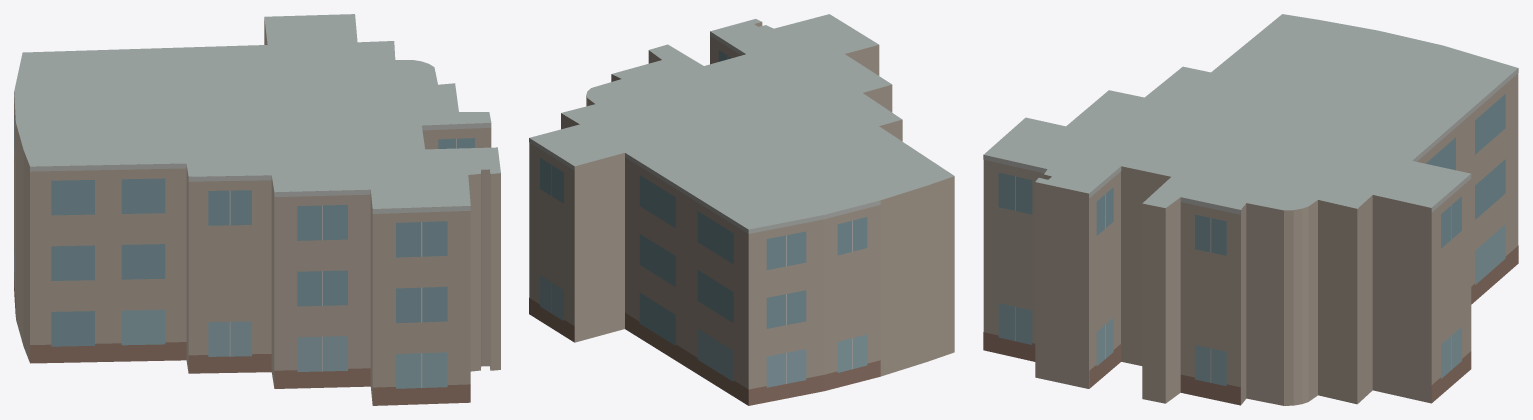
Rendered from survey-upis-32502883.glb.
3 views of the same model, side by side, from view 1: azimuth 30°, elevation 25°; view 2: azimuth 150°, elevation 25°; view 3: azimuth 270°, elevation 25° (orthographic). The views are drawn at different scales.
Parts seen in each view (by area): view 1: survey-upis-32502883.tmp; view 2: survey-upis-32502883.tmp; view 3: survey-upis-32502883.tmp.
Boxes of the visible parts, x1,y1,x2,y2 form: survey-upis-32502883.tmp: (14,14,500,405); survey-upis-32502883.tmp: (529,14,954,405); survey-upis-32502883.tmp: (983,14,1518,405).
Bounding box in the file's own units: 20.9 × 9.7 × 24.06.
